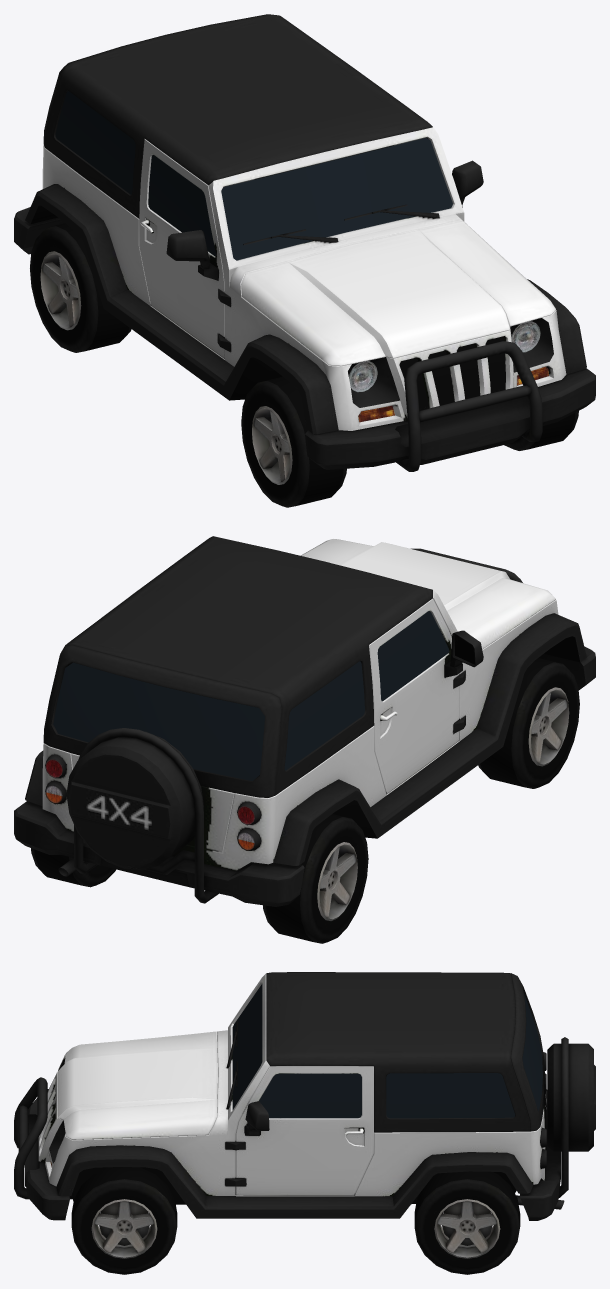
File: tout-terrain.glb
3 renders of one model, top to bottom at view 1: azimuth 30°, elevation 25°; view 2: azimuth 150°, elevation 25°; view 3: azimuth 270°, elevation 25°, orthographic. The views are drawn at different scales.
Parts seen in each view (by area): view 1: carrosserie, wheel_3, wheel_0, wheel_2; view 2: carrosserie, wheel_3, wheel_0, wheel_1; view 3: carrosserie, wheel_2, wheel_1.
Boxes of the visible parts, x1,y1,x2,y2 form: carrosserie: (14,14,595,471); wheel_3: (241,376,346,507); wheel_0: (30,223,131,352); wheel_2: (504,411,578,450); carrosserie: (14,536,595,906); wheel_3: (478,658,579,788); wheel_0: (263,814,368,943); wheel_1: (31,848,116,887); carrosserie: (14,972,595,1220); wheel_2: (71,1167,177,1274); wheel_1: (414,1171,520,1274).
Bounding box in the file's own units: 2.21 × 1.77 × 4.43.
7 materials, 6 textured.
